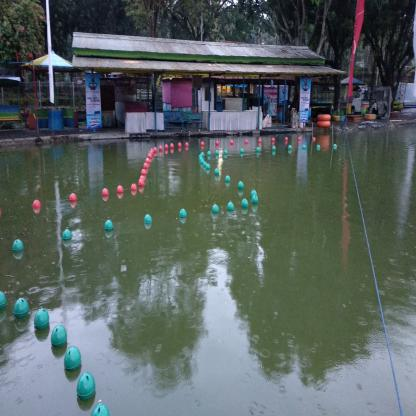green_buoy: (76, 371, 96, 402), (32, 306, 50, 340), (14, 297, 31, 326), (52, 325, 66, 353), (66, 347, 79, 373), (60, 225, 72, 251), (176, 204, 188, 228), (12, 236, 23, 258), (104, 218, 114, 240), (143, 214, 151, 235), (241, 194, 248, 215), (226, 199, 233, 219), (212, 202, 218, 218)
red_buoy: (31, 194, 40, 215), (68, 190, 77, 209), (101, 184, 109, 200), (138, 175, 145, 193), (130, 180, 137, 196), (117, 180, 124, 196)
